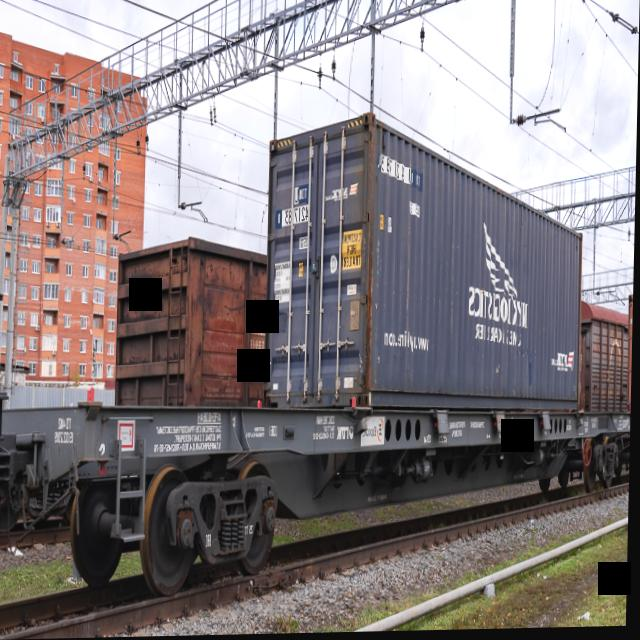boxcar: (581, 299, 632, 420)
container: (260, 100, 589, 426), (624, 290, 635, 420)
flatcar: (0, 387, 633, 596)
gondola: (109, 226, 271, 417)
